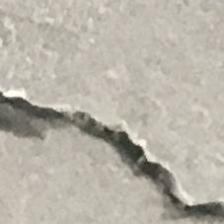Crack: (0, 82, 224, 224)
